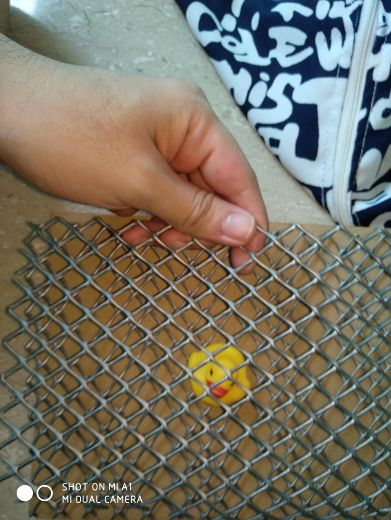unknownObject: (188, 344, 250, 405)
